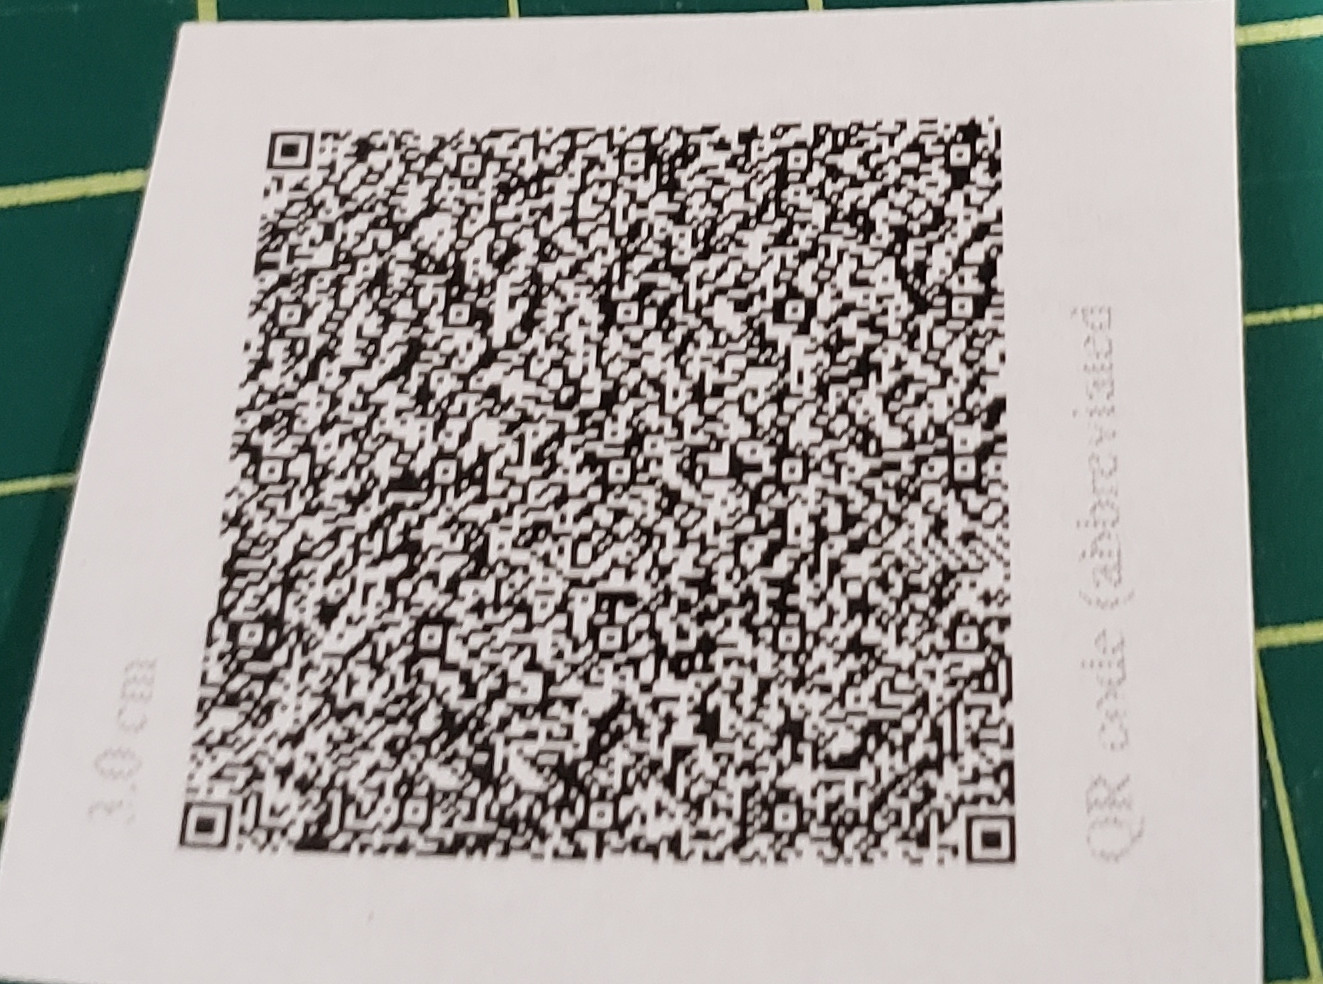QR_CODE: (152, 98, 1059, 889)
